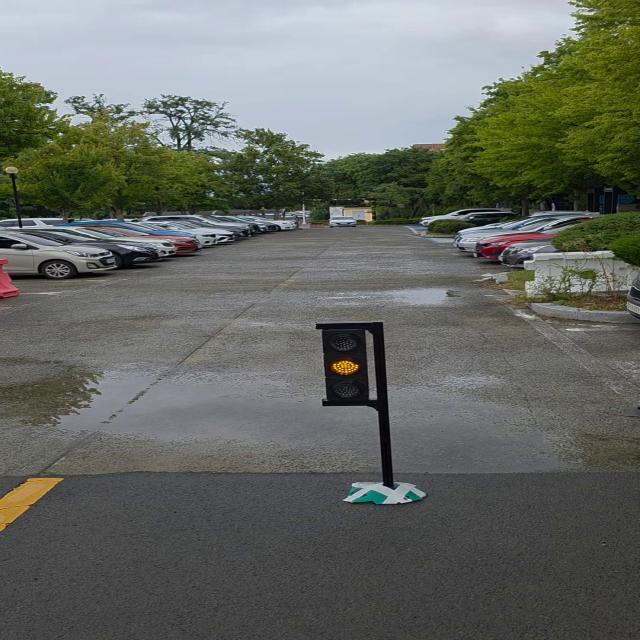red: (318, 324, 378, 404)
